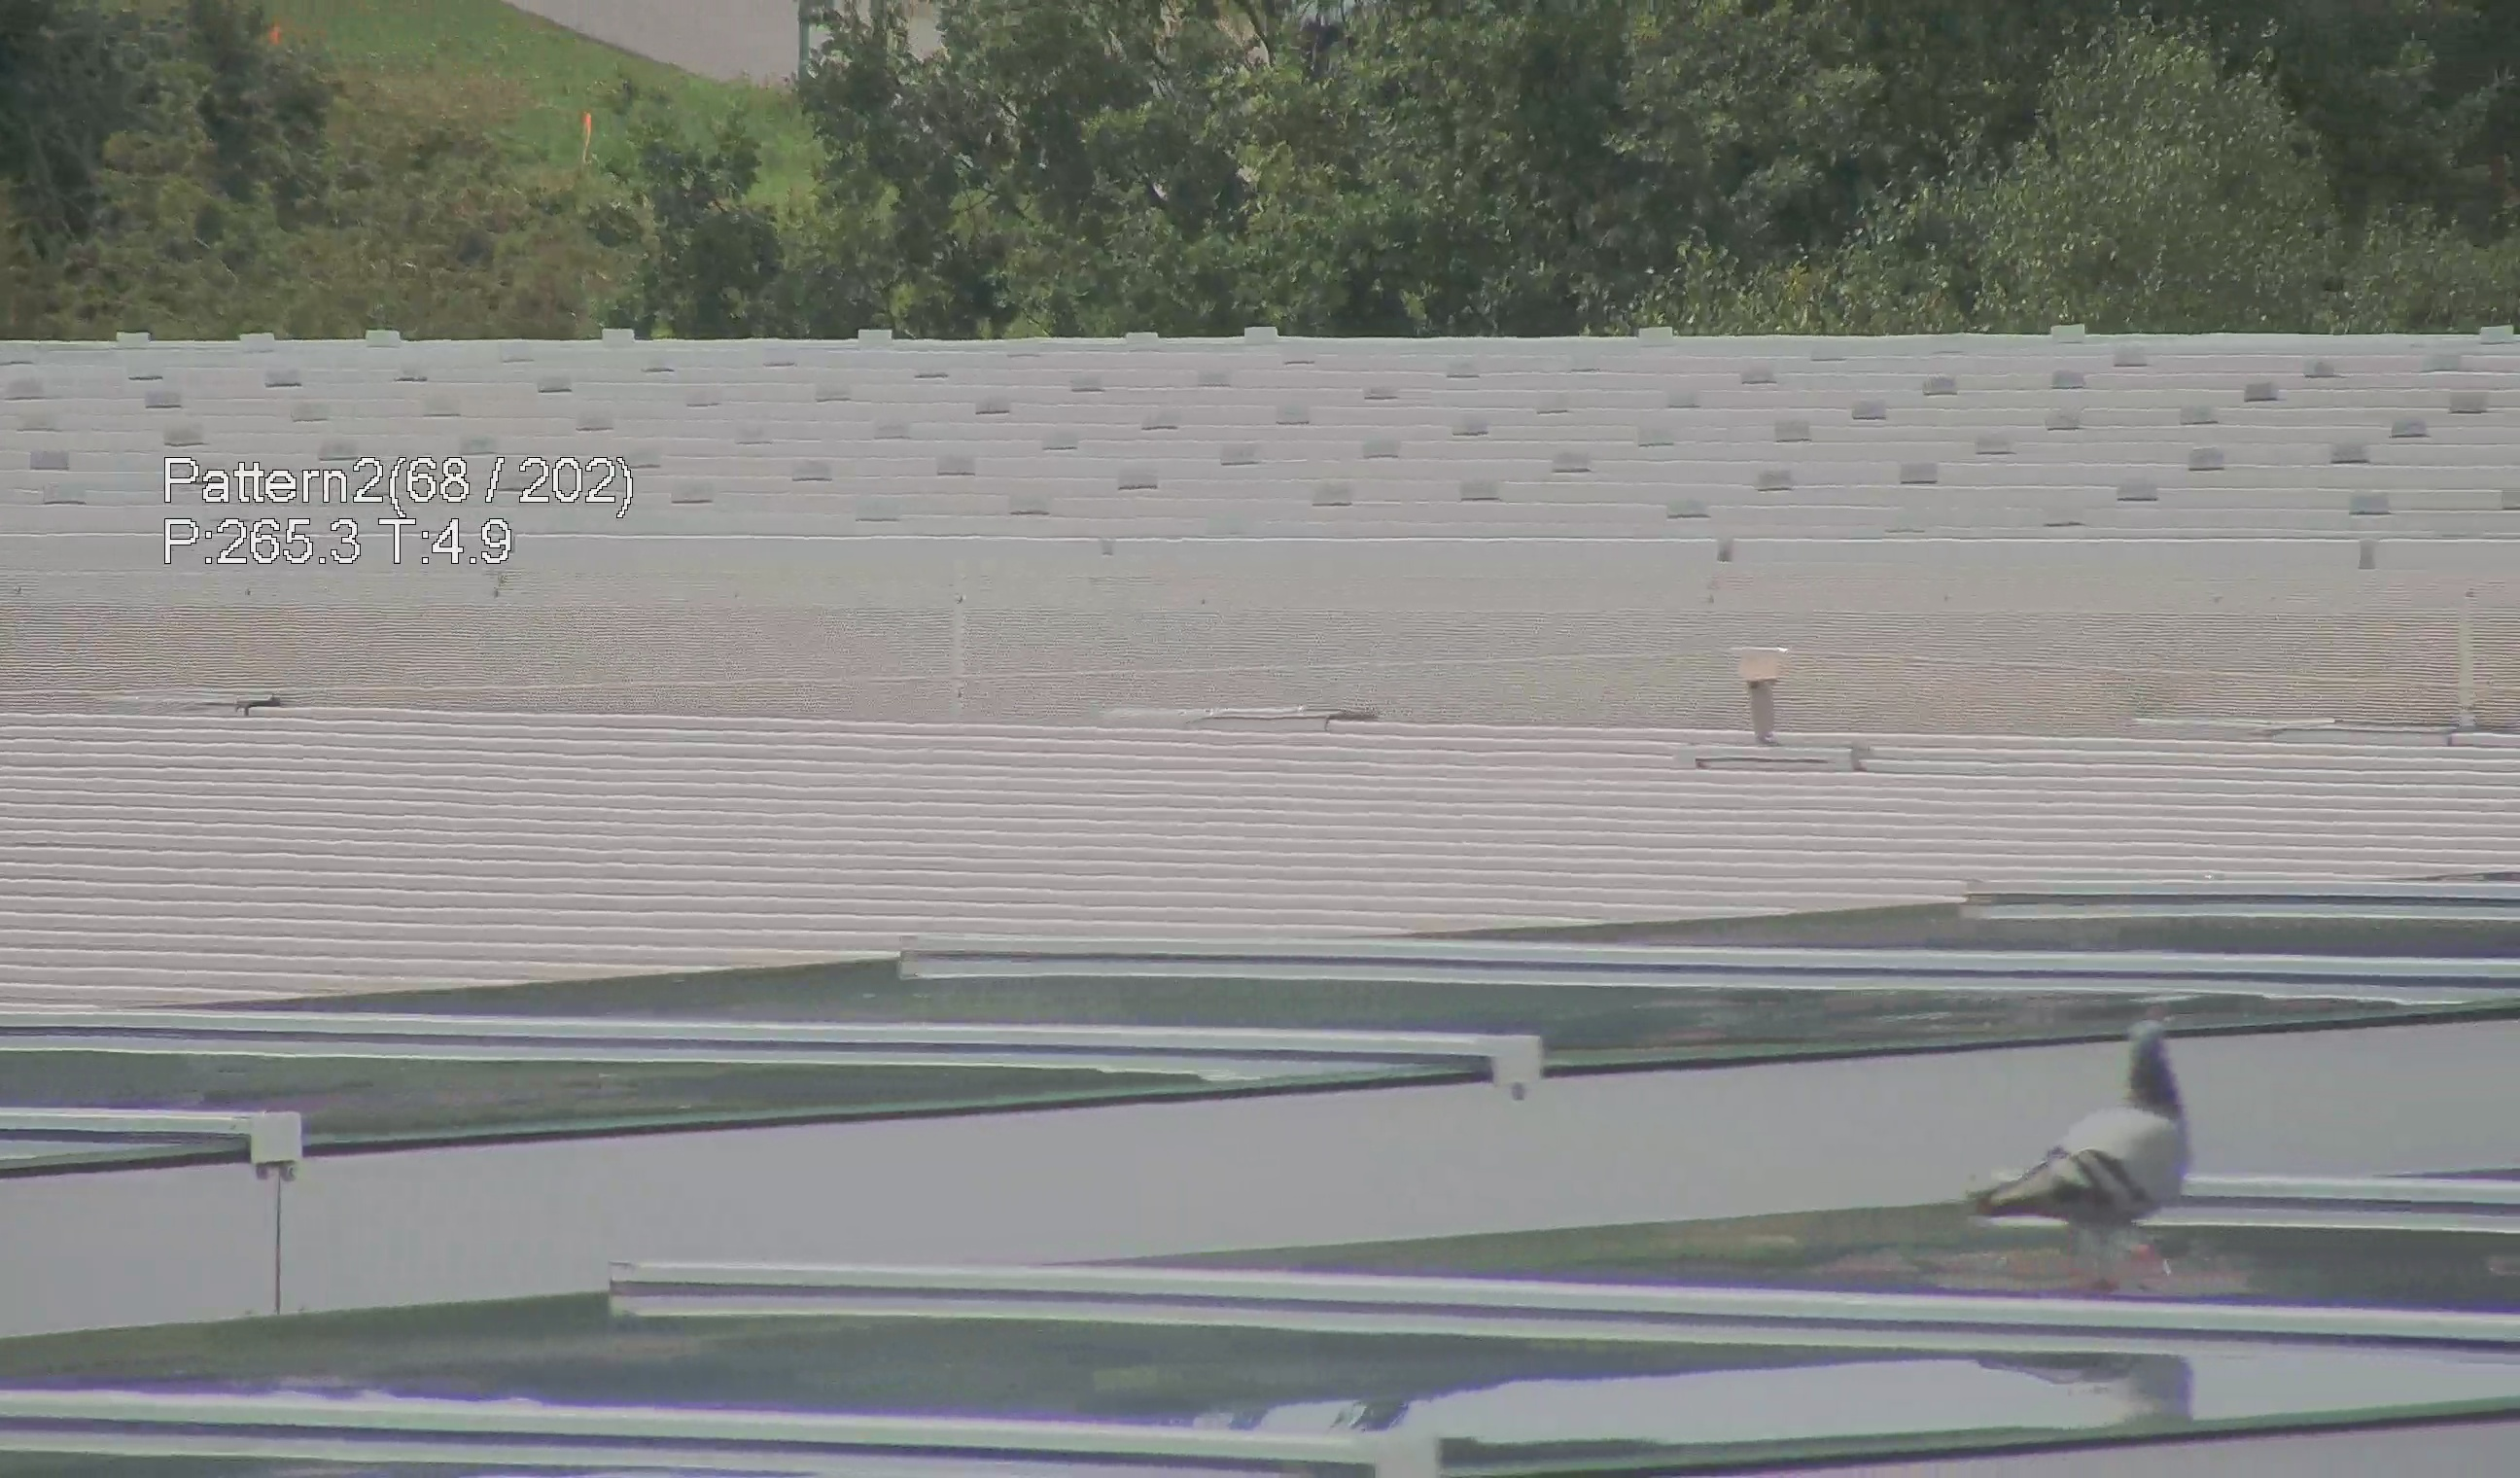Pigeon: (1977, 1024, 2230, 1291)
